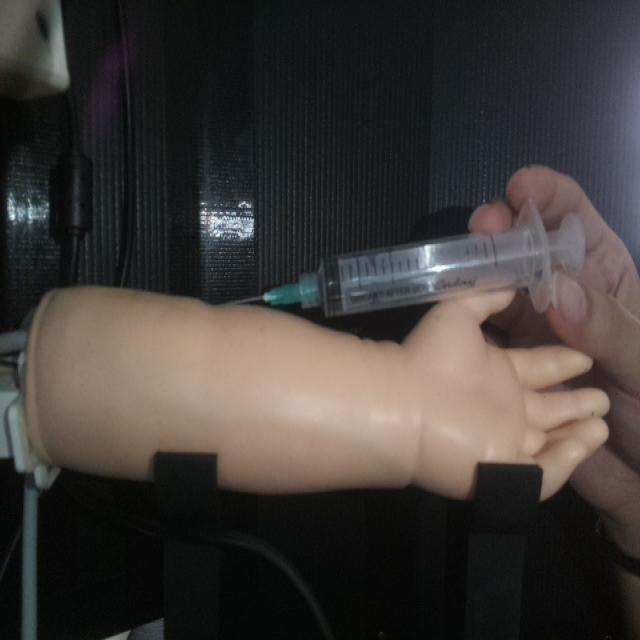Outside: (228, 192, 590, 317)
